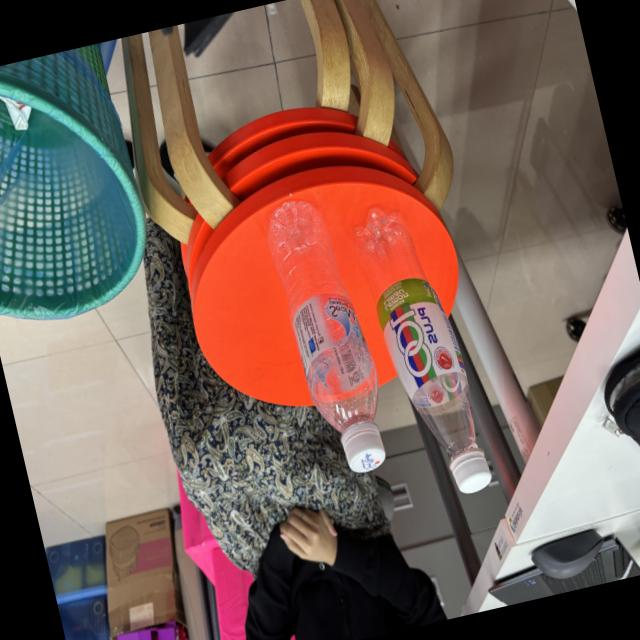dustbin: (0, 39, 173, 338)
plastic_bottle: (344, 182, 504, 517), (255, 176, 408, 492)
